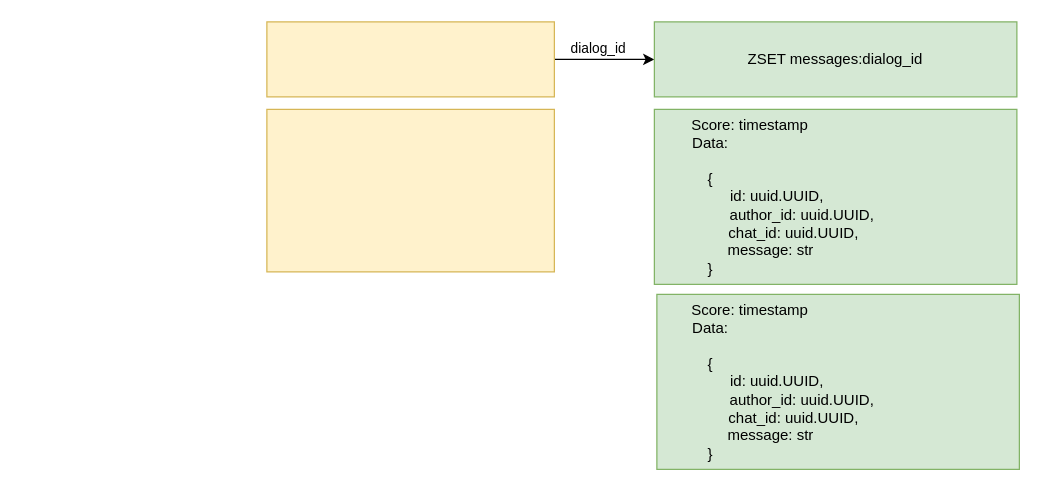
The diagram is 1041 pixels wide and 491 high, and some of its shapes have lost their labels. Each missing label, with the box of its shape:
Data: { id: uuid.UUID, name: str, owner_id: Optional[uuid.UUID] }: (266, 108, 554, 272)
JSON dialog:user_id:friend_id: (266, 21, 554, 97)
